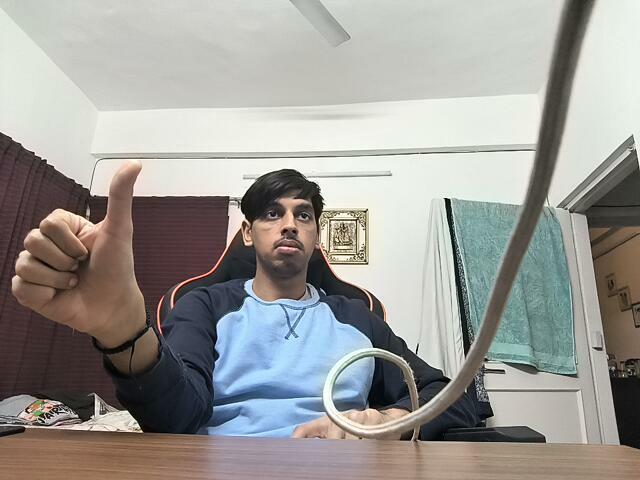LEFT: (11, 138, 153, 348)
